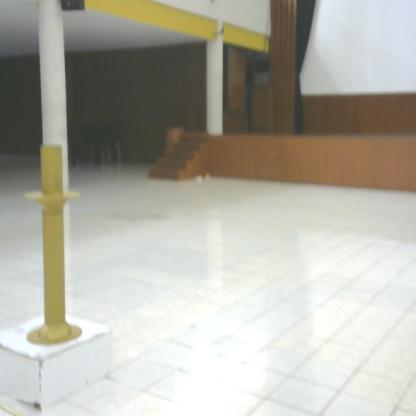pole: (17, 138, 90, 352)
